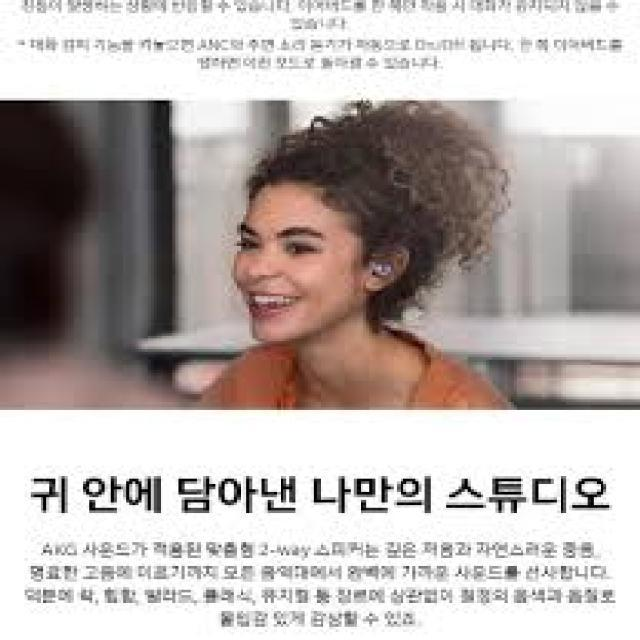earphone: (363, 252, 402, 292)
